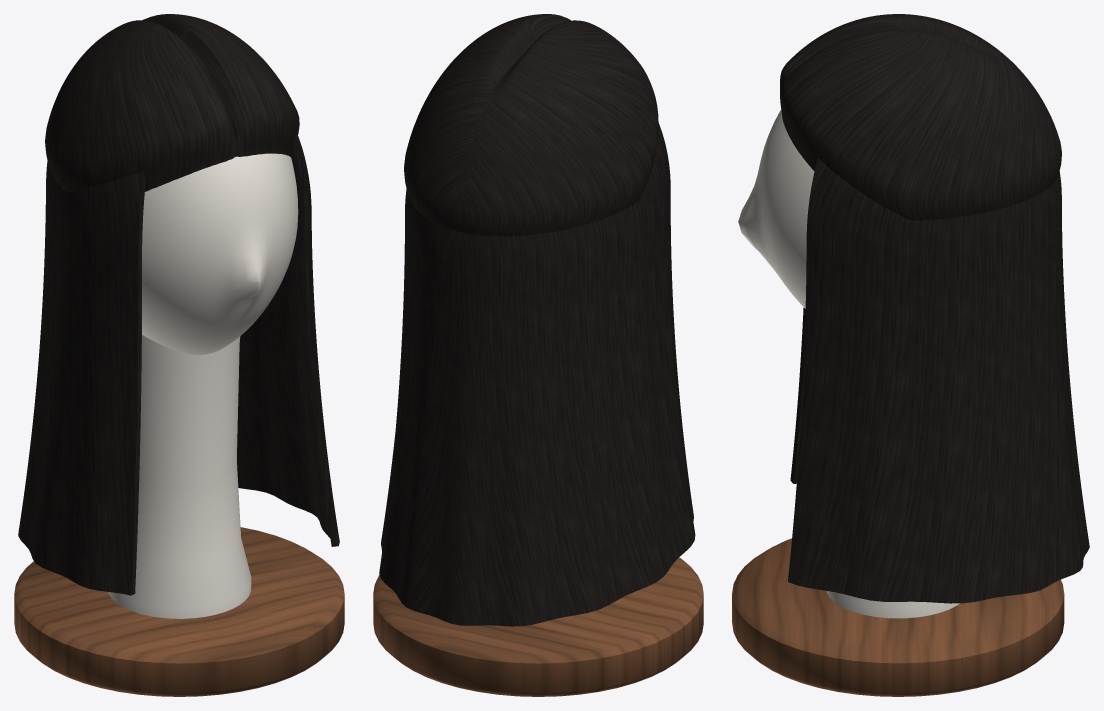
The model's file is long-straight-hairstyle.glb.
3 renders of one model, left to right at view 1: azimuth 30°, elevation 25°; view 2: azimuth 150°, elevation 25°; view 3: azimuth 270°, elevation 25°, orthographic.
Visible parts, largest first — view 1: Long_Straight_Hairstyle; view 2: Long_Straight_Hairstyle; view 3: Long_Straight_Hairstyle.
Boxes of the visible parts, x1,y1,x2,y2 form: Long_Straight_Hairstyle: (14, 14, 344, 696); Long_Straight_Hairstyle: (373, 14, 703, 696); Long_Straight_Hairstyle: (732, 14, 1089, 696).
Size of the model in its own units: 0.23 by 0.4629 by 0.2477.
3 materials, 2 textured.
